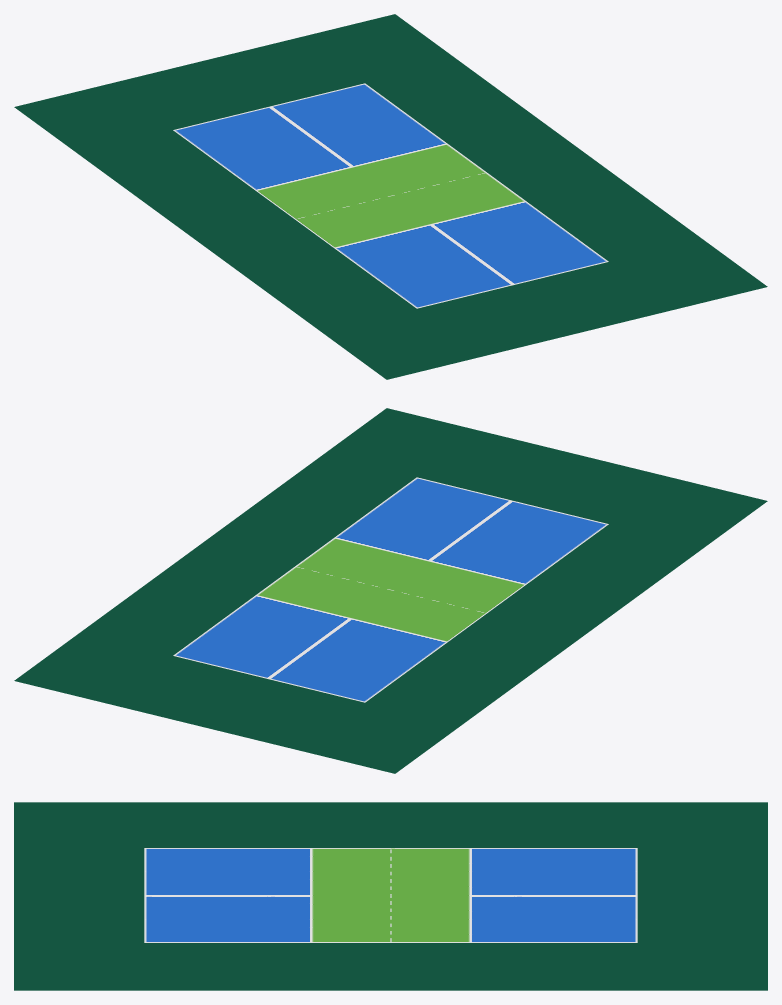
The model's file is pickleball court.fbx.
3 renders of one model, top to bottom at view 1: azimuth 30°, elevation 25°; view 2: azimuth 150°, elevation 25°; view 3: azimuth 270°, elevation 25°, orthographic.
Visible parts, largest first — view 1: pickleball court; view 2: pickleball court; view 3: pickleball court.
Part boxes in pixels (x1,y1,x2,y2): pickleball court: (14,14,767,379); pickleball court: (14,408,767,773); pickleball court: (14,802,767,990).
Bounding box in the file's own units: 490 × 1.21 × 830.
1 material, 1 textured.
